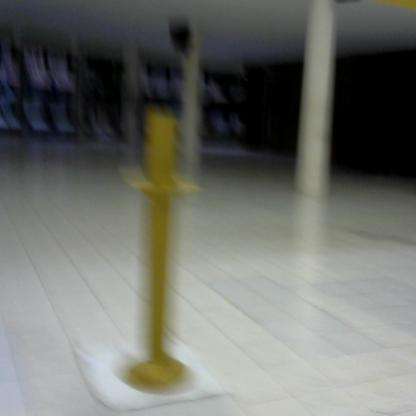pole: (117, 110, 206, 402)
